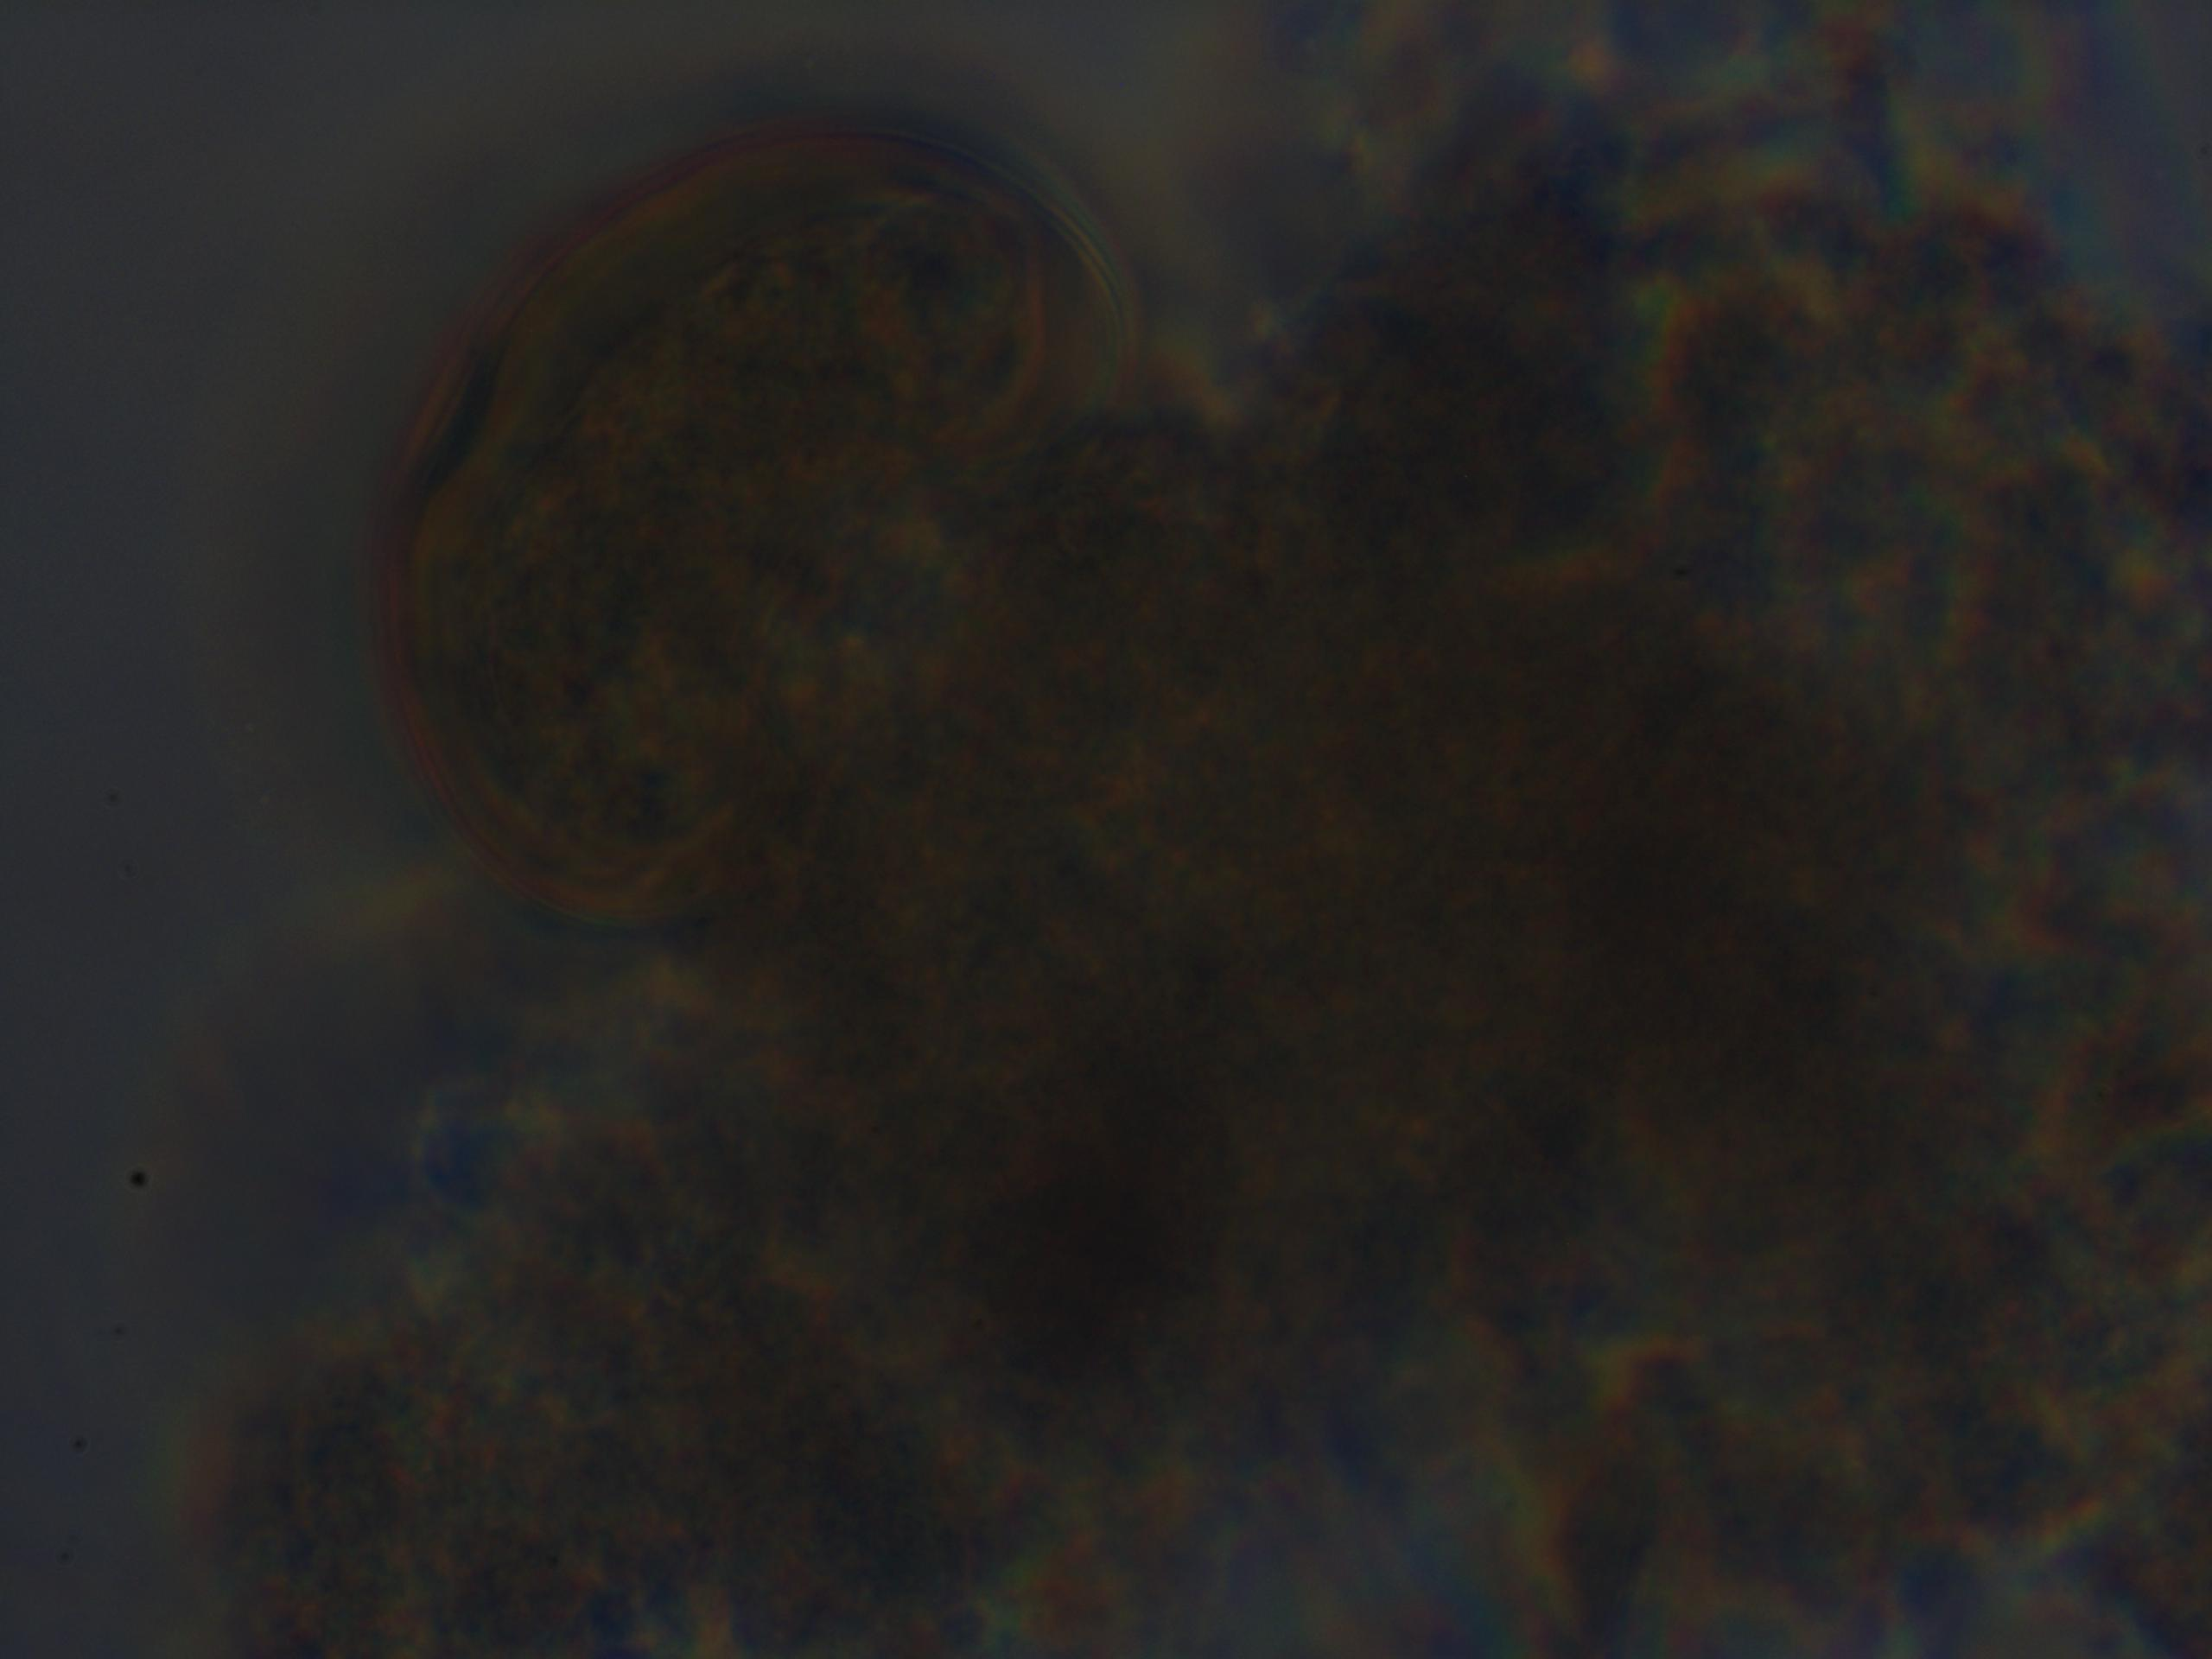protozoa: (334, 87, 1163, 904)
